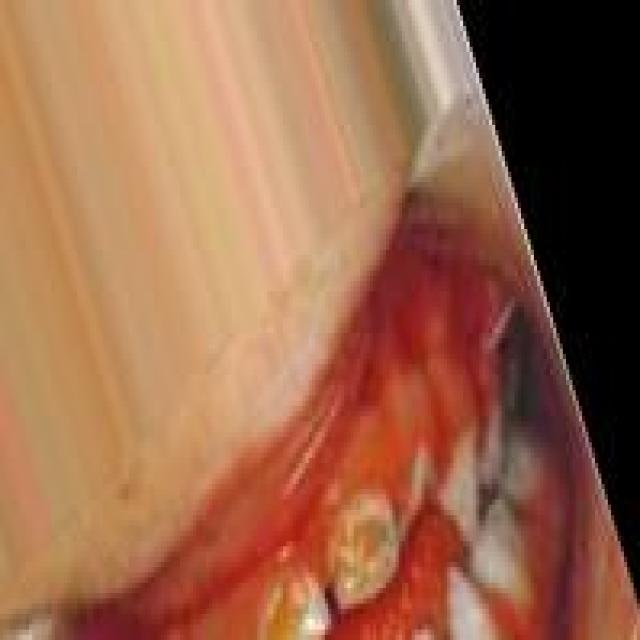caries: (324, 490, 407, 610), (260, 559, 336, 640), (394, 448, 446, 544)
